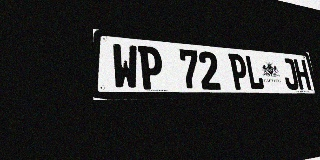2: (198, 51, 221, 90)
7: (178, 49, 202, 90)
H: (293, 59, 311, 90)
J: (281, 58, 299, 90)
L: (244, 55, 265, 90)
P: (138, 46, 164, 90), (228, 53, 249, 90)
W: (112, 43, 139, 89)
